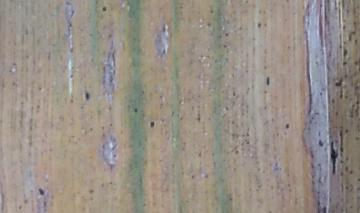tarspot: (328, 140, 338, 175), (347, 21, 357, 43), (337, 129, 345, 154), (334, 76, 344, 87), (36, 187, 46, 197), (264, 74, 271, 87), (342, 46, 349, 59), (67, 97, 77, 106), (84, 90, 91, 102), (87, 188, 96, 197), (338, 87, 344, 100), (148, 120, 156, 129), (317, 138, 325, 147), (132, 106, 140, 114), (222, 31, 230, 39), (284, 122, 291, 130), (321, 205, 328, 213), (68, 73, 76, 80), (317, 90, 324, 98), (256, 21, 262, 30), (230, 88, 236, 97), (161, 45, 167, 54), (341, 60, 348, 67), (333, 109, 340, 116), (352, 59, 358, 67), (205, 20, 211, 28), (354, 135, 360, 143), (101, 5, 107, 12), (330, 97, 336, 104), (341, 24, 347, 31), (347, 169, 354, 175), (343, 164, 349, 171), (339, 170, 344, 178), (339, 156, 344, 164), (208, 8, 214, 14), (354, 84, 360, 90), (222, 42, 227, 48), (344, 155, 349, 161), (355, 99, 360, 104), (243, 1, 249, 5), (325, 1, 331, 5), (356, 177, 360, 182), (284, 1, 290, 4)
